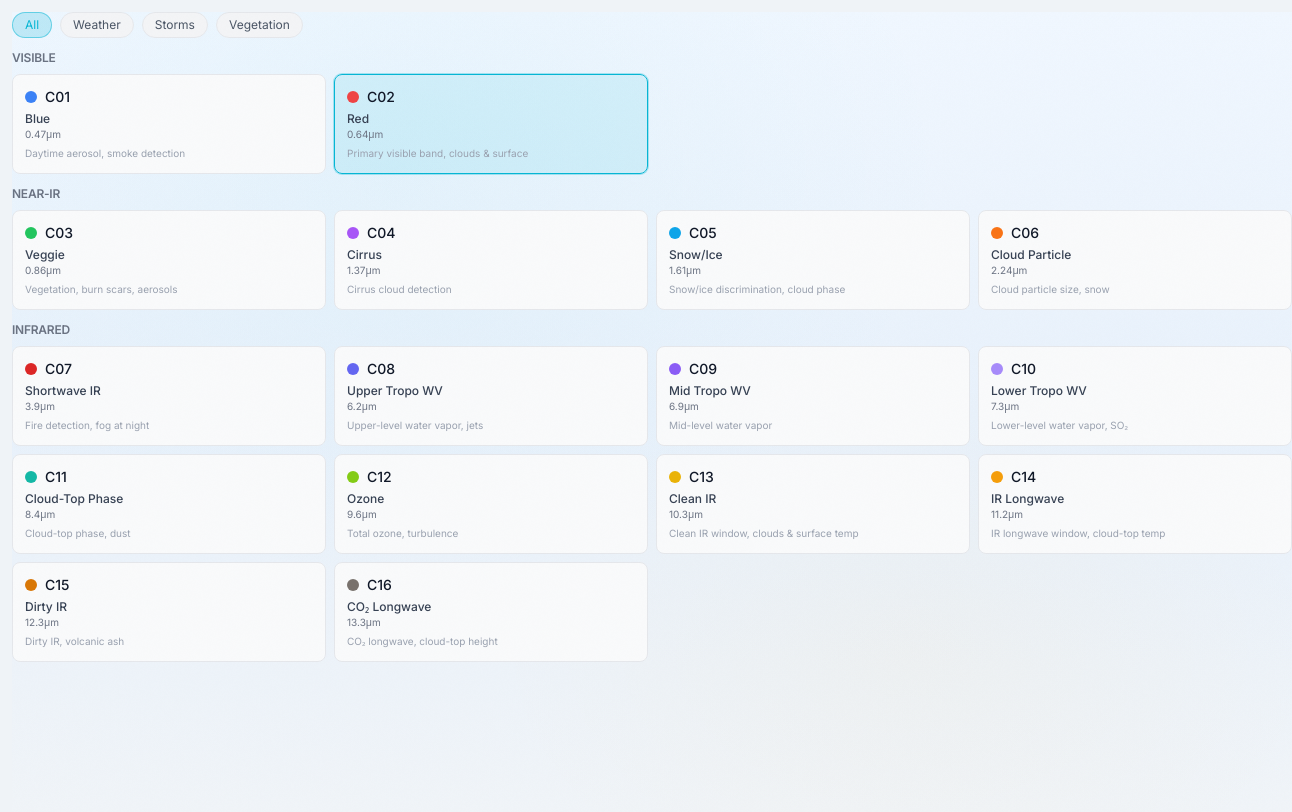
Test: BandPicker › filters bands by category
Click "Weather" filter
Click the button "Weather". click: (97, 25)
box: [60,12,134,38]
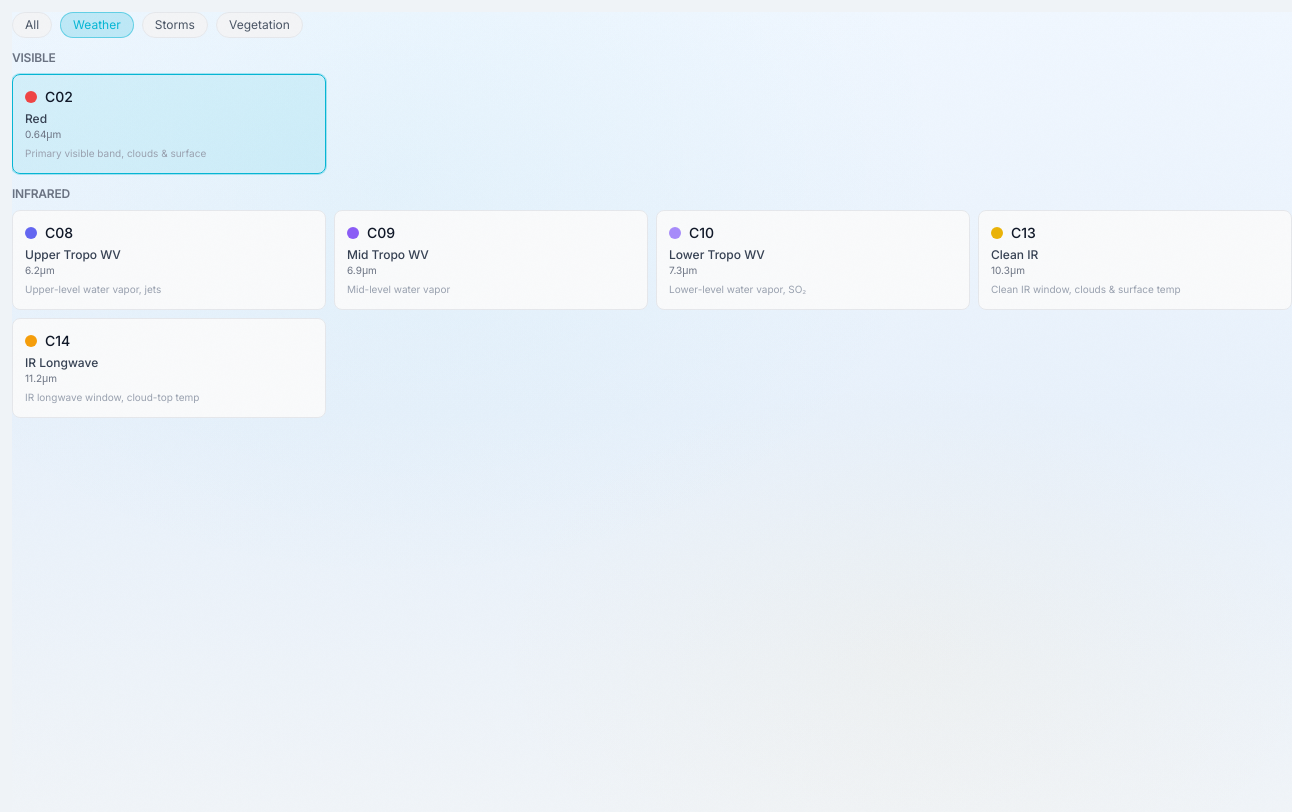
Expected: the text "C02" is shown, [45,87,73,107]
Now the button "C03" is gone
